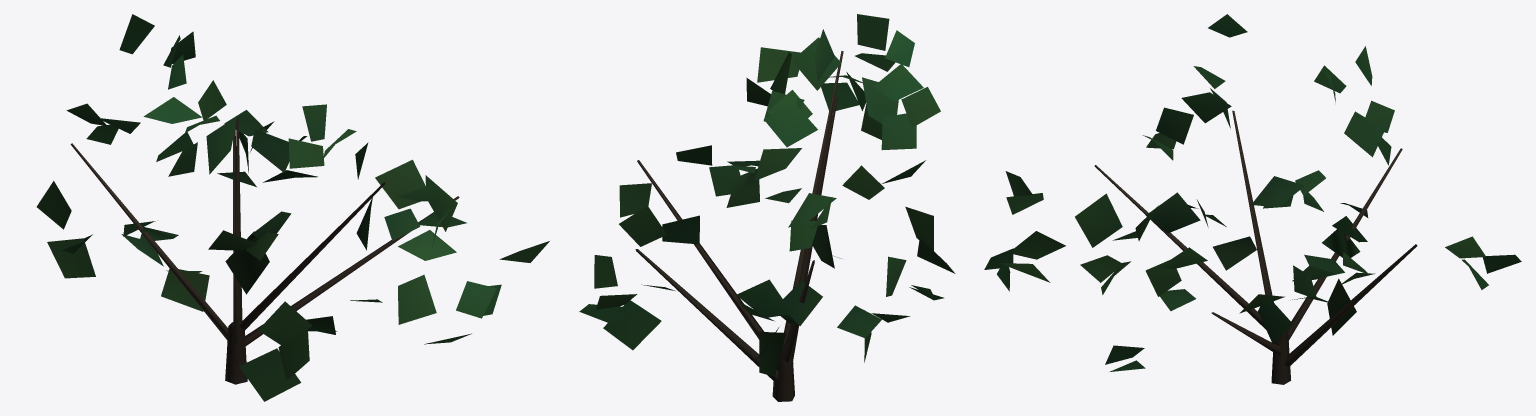
Rendered from bush-holly-b.lod2.glb.
3 renders of one model, left to right at view 1: azimuth 30°, elevation 25°; view 2: azimuth 150°, elevation 25°; view 3: azimuth 270°, elevation 25°, orthographic. The views are drawn at different scales.
Parts seen in each view (by area): view 1: bush-holly-b.lod2; view 2: bush-holly-b.lod2; view 3: bush-holly-b.lod2.
Part boxes in pixels (x1=…): bush-holly-b.lod2: x1=36, y1=14, x2=549, y2=401; bush-holly-b.lod2: x1=579, y1=14, x2=955, y2=401; bush-holly-b.lod2: x1=984, y1=14, x2=1521, y2=384.
Size of the model in its own units: 1.33 by 1.22 by 1.8.
